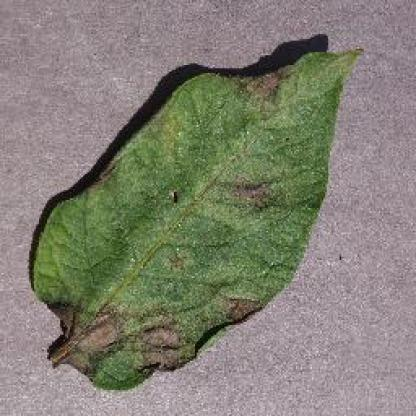bad leaf: (34, 34, 372, 392)
